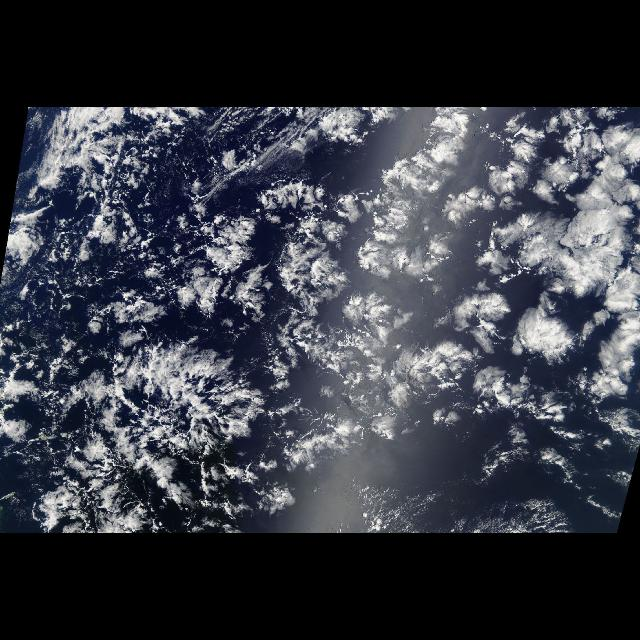Fish: (35, 328, 323, 514)
Flower: (185, 115, 640, 432)
Gravel: (32, 325, 310, 527)
